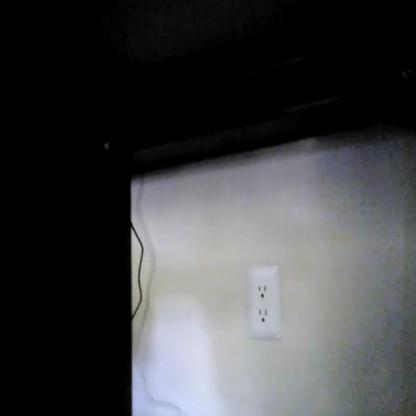OUTLET: (248, 266, 281, 338)
